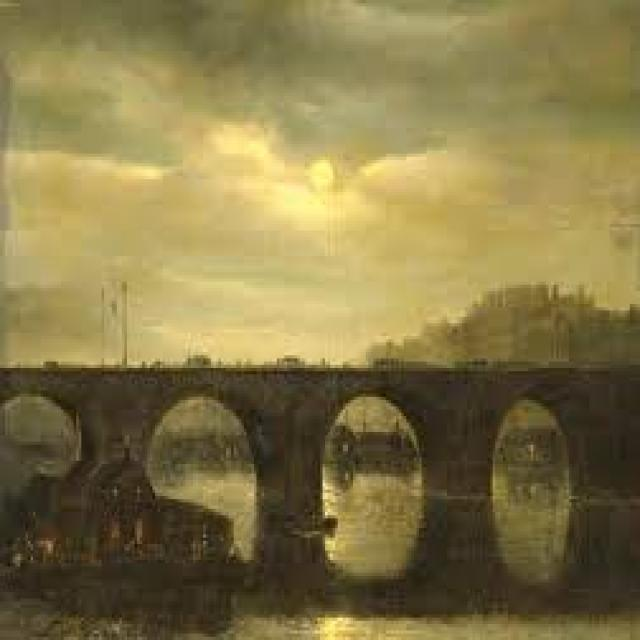Bridges: (2, 302, 640, 570)
